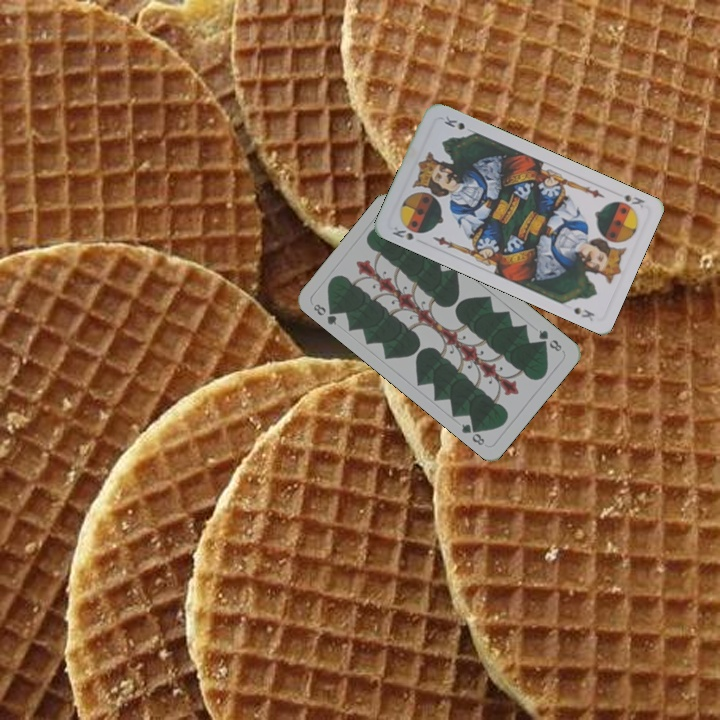G8: (309, 300, 341, 328), (534, 326, 565, 354)
SK: (610, 187, 648, 213), (388, 222, 416, 243)
